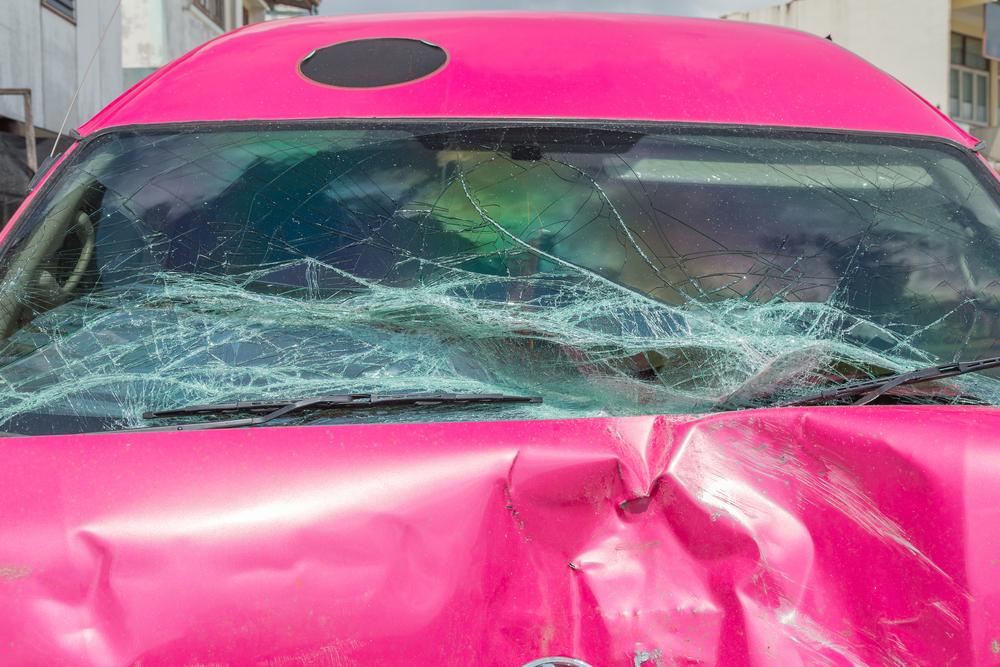dent: (27, 412, 984, 667)
